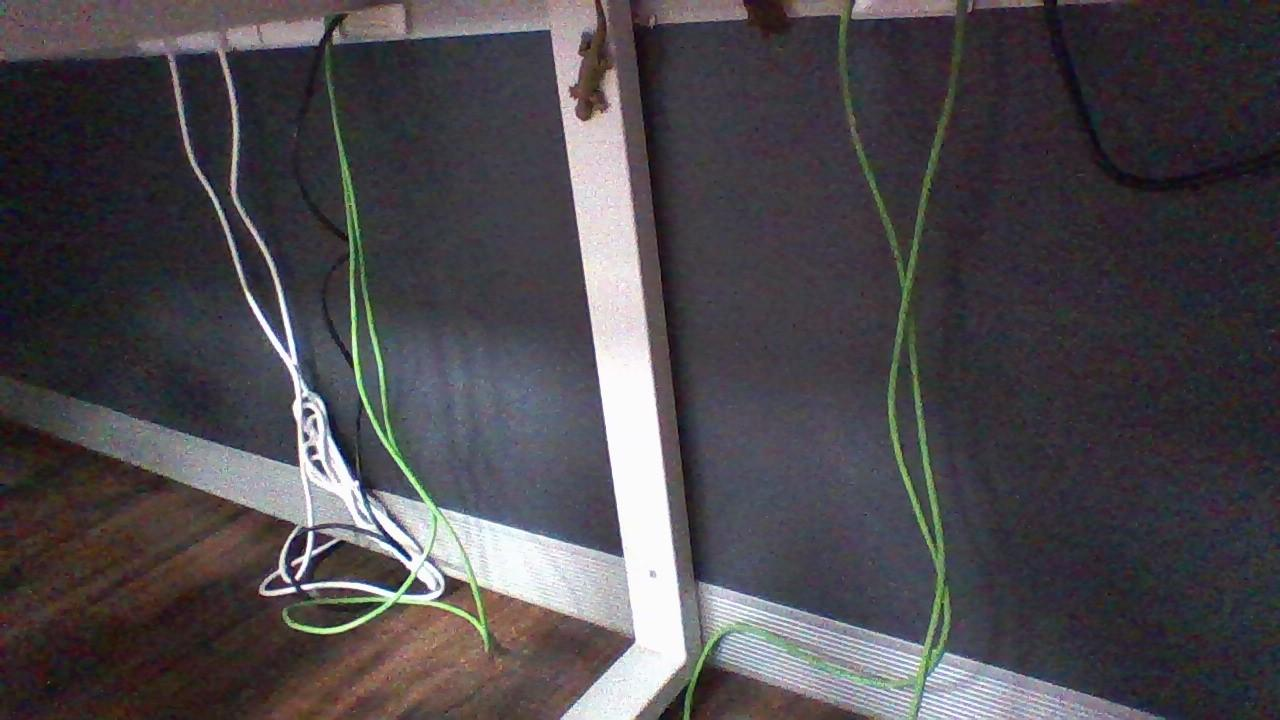cockroach: (739, 0, 798, 54)
lizard: (552, 3, 629, 135)
